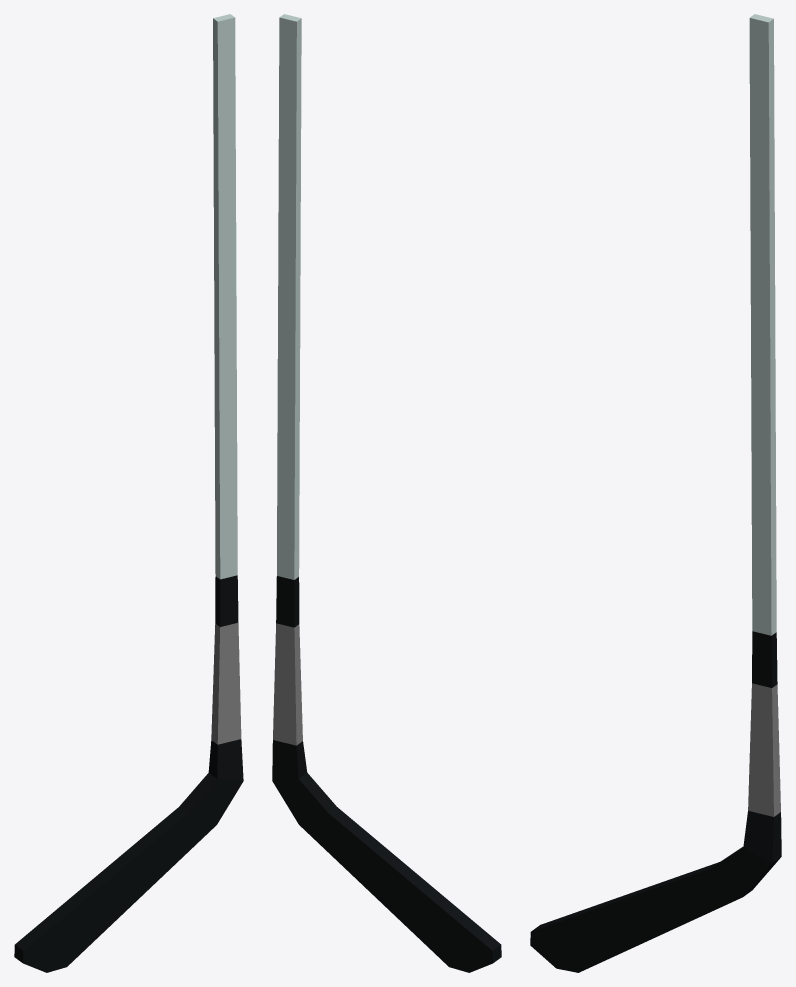
The model's file is Hockey_Player_2_Stick.fbx.
3 views of the same model, side by side, from view 1: azimuth 30°, elevation 25°; view 2: azimuth 150°, elevation 25°; view 3: azimuth 330°, elevation 25° (orthographic). The views are drawn at different scales.
Parts seen in each view (by area): view 1: Hockey_Player_2_Stick; view 2: Hockey_Player_2_Stick; view 3: Hockey_Player_2_Stick.
Boxes of the visible parts, left/top/right/bottom form: Hockey_Player_2_Stick: left=14, top=14, right=243, bottom=972; Hockey_Player_2_Stick: left=272, top=14, right=501, bottom=972; Hockey_Player_2_Stick: left=530, top=14, right=781, bottom=972.
Size of the model in its own units: 37.84 by 149 by 2.57.
